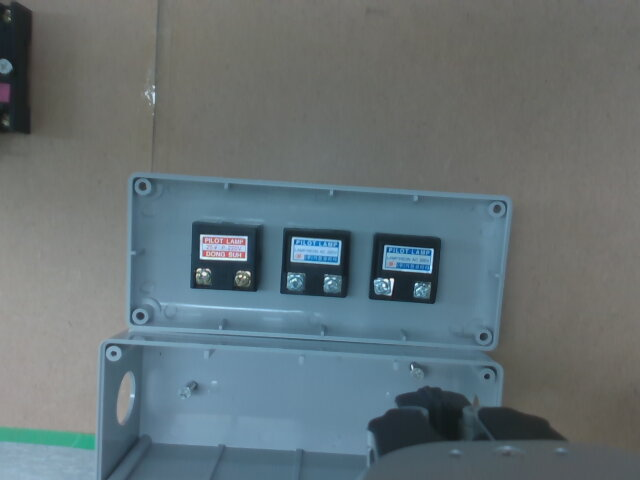L1(1): (195, 267, 211, 284)
L1(2): (234, 271, 250, 288)
L2(1): (286, 272, 305, 291)
L2(2): (323, 275, 342, 293)
L3(1): (374, 277, 392, 295)
L3(2): (413, 280, 431, 298)
